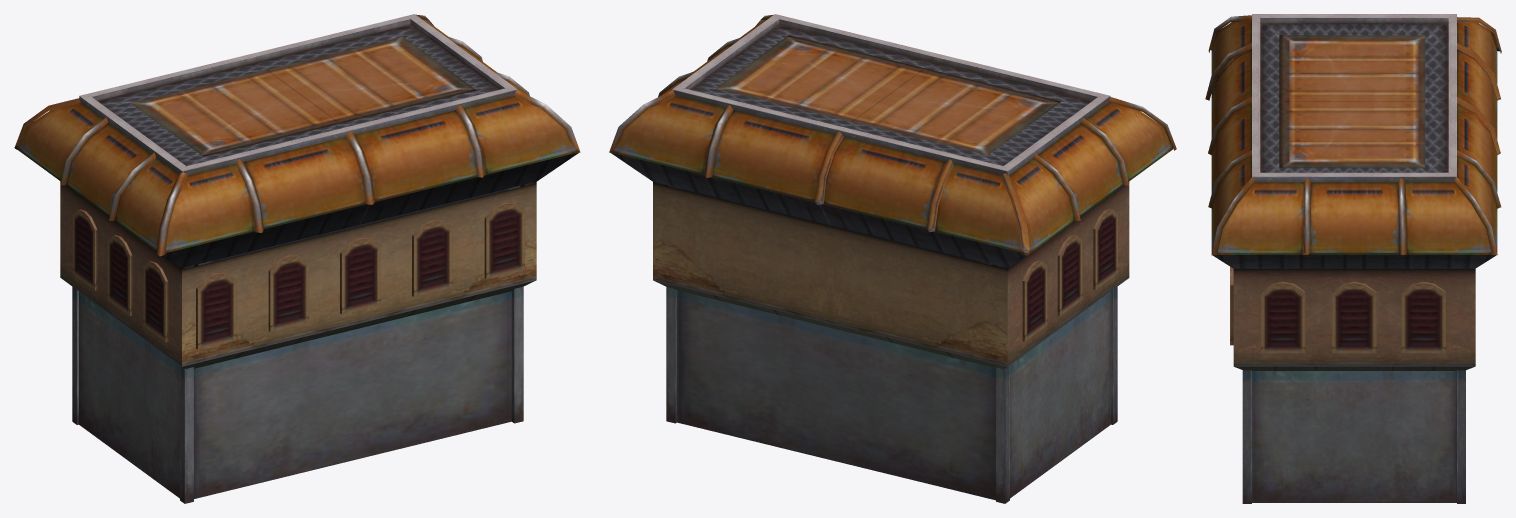
The model's file is zc_lekesigang_zhujian07.FBX.
3 views of the same model, side by side, from view 1: azimuth 30°, elevation 25°; view 2: azimuth 150°, elevation 25°; view 3: azimuth 270°, elevation 25° (orthographic).
Parts seen in each view (by area): view 1: zc_lekesigang_zhujian07; view 2: zc_lekesigang_zhujian07; view 3: zc_lekesigang_zhujian07.
Part boxes in pixels (x1,y1,x2,y2): zc_lekesigang_zhujian07: (14, 14, 580, 503); zc_lekesigang_zhujian07: (609, 14, 1176, 503); zc_lekesigang_zhujian07: (1205, 14, 1501, 503).
Bounding box in the file's own units: 1172 × 860 × 707.
Materials: 1 (1 with a texture image).
